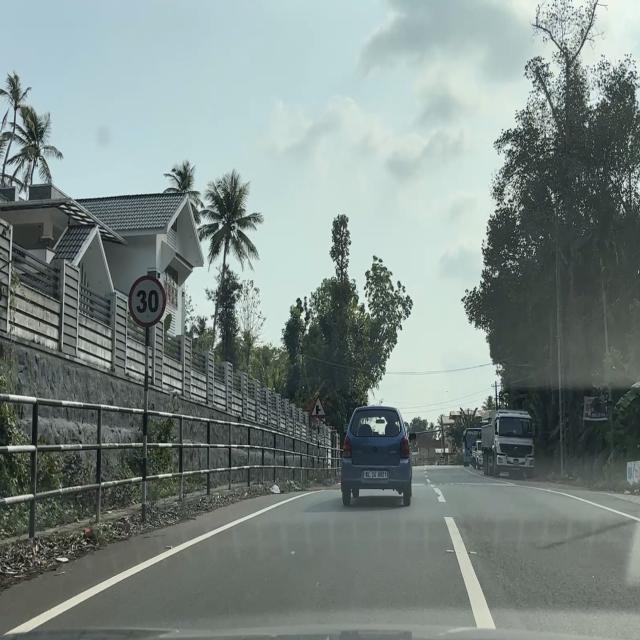SIDE_ROAD_RIGHT: (310, 395, 327, 418)
SPEED_LIMIT_30: (127, 275, 167, 329)
